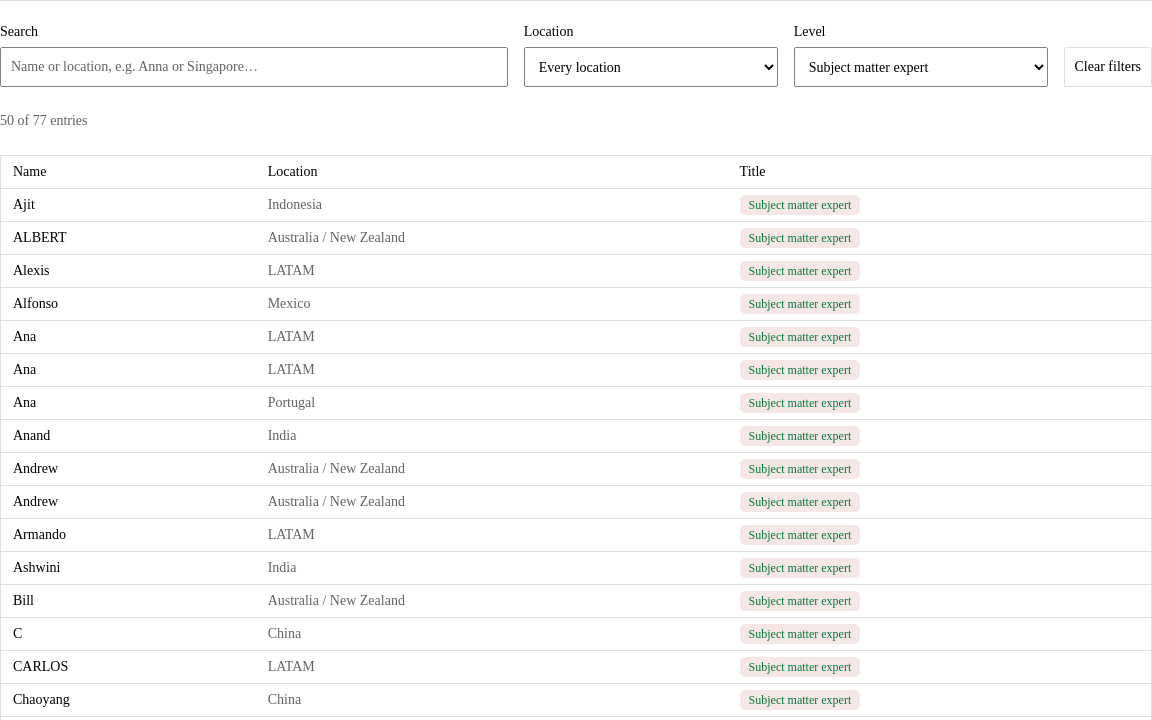
RegisterDirectory › gives the unrated majority a title of their own rather than a competency rating
Step 1. Select "Safety specialist" in the dropdown labelled "Level" → (921, 67), box [794, 47, 1048, 87]
(page scrolled)
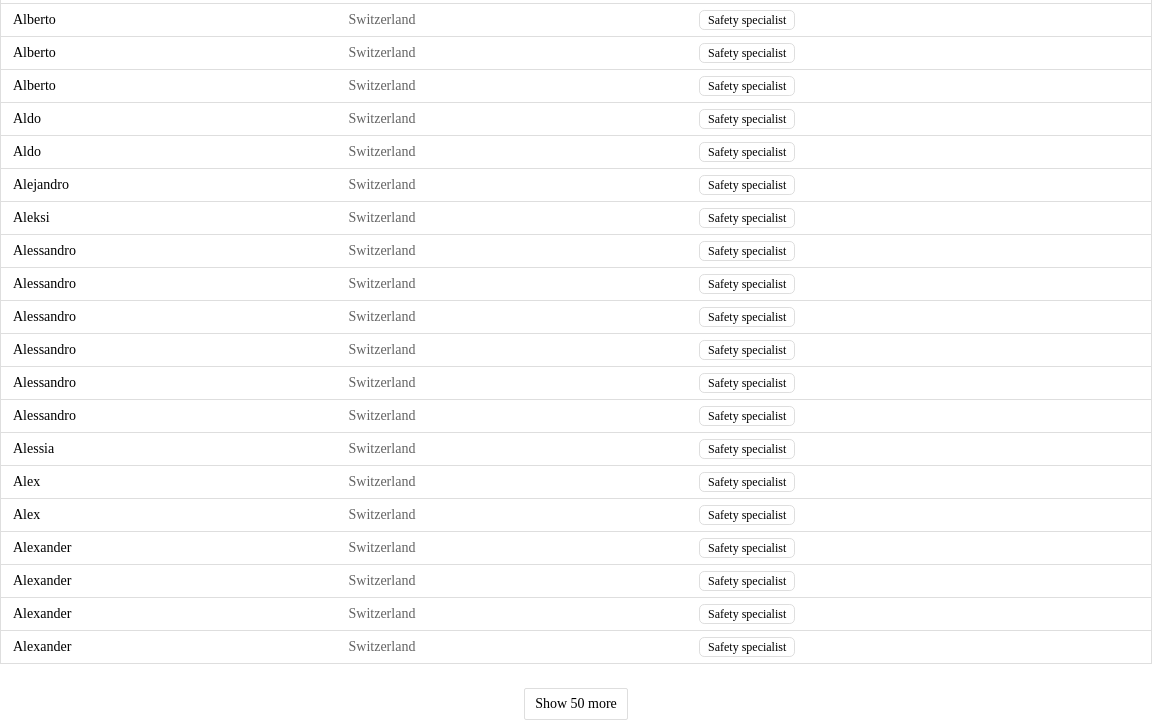
Expected: the text "Subject matter expert" is gone
Expected: the 1st text "Safety specialist" is shown, [699, 10, 795, 30]
Expected: the 2nd text "Safety specialist" is shown, [699, 42, 795, 62]
